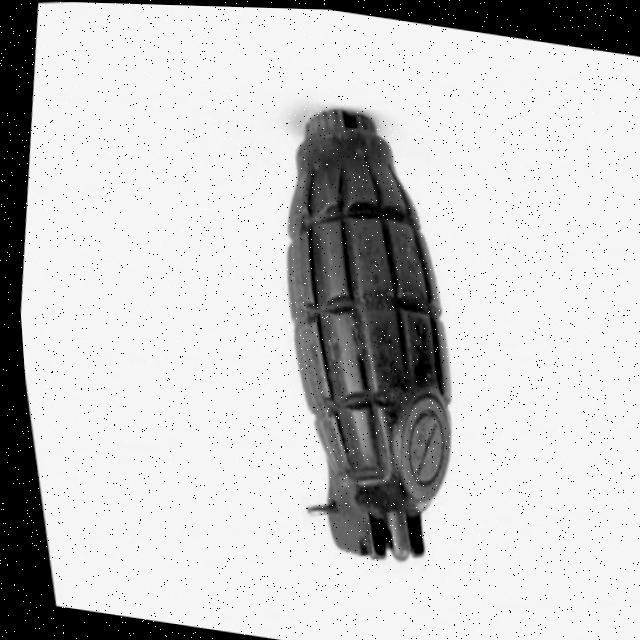grenade: (193, 74, 536, 598)
